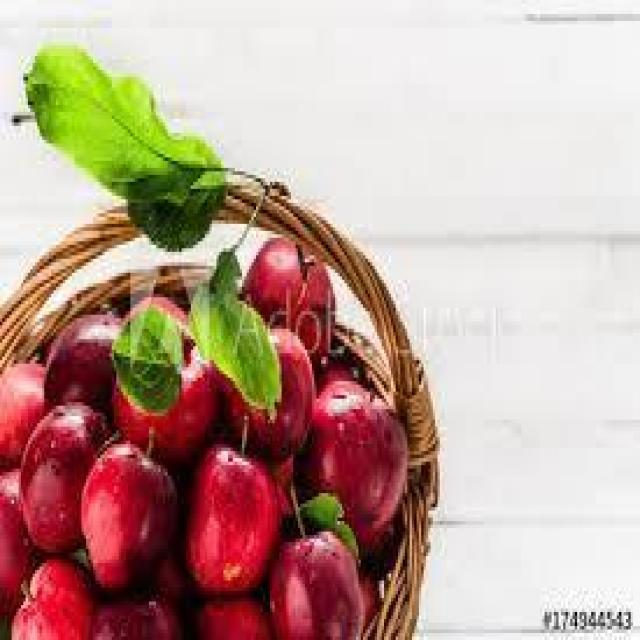maca: (0, 230, 407, 636)
